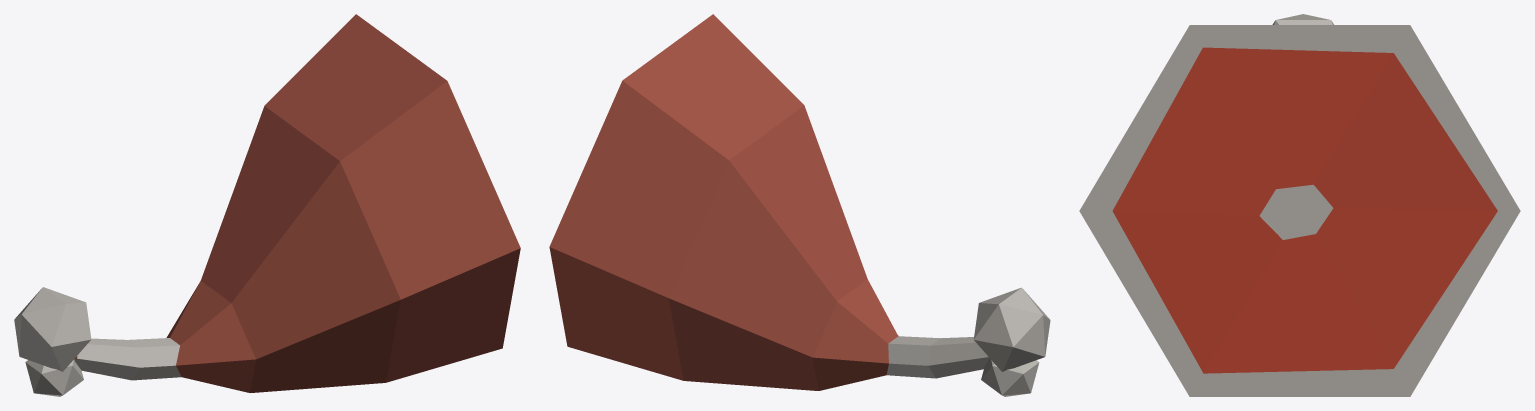
File: food.glb
3 views of the same model, side by side, from view 1: azimuth 30°, elevation 25°; view 2: azimuth 150°, elevation 25°; view 3: azimuth 270°, elevation 25° (orthographic). The views are drawn at different scales.
Visible parts, largest first — view 1: Ham; view 2: Ham; view 3: Ham.
Part boxes in pixels (bbox=[...]): Ham: bbox=[14, 14, 520, 396]; Ham: bbox=[549, 14, 1050, 396]; Ham: bbox=[1079, 14, 1520, 396].
Bounding box in the file's own units: 0.6985 × 0.4508 × 0.507.
1 material, 1 textured.
